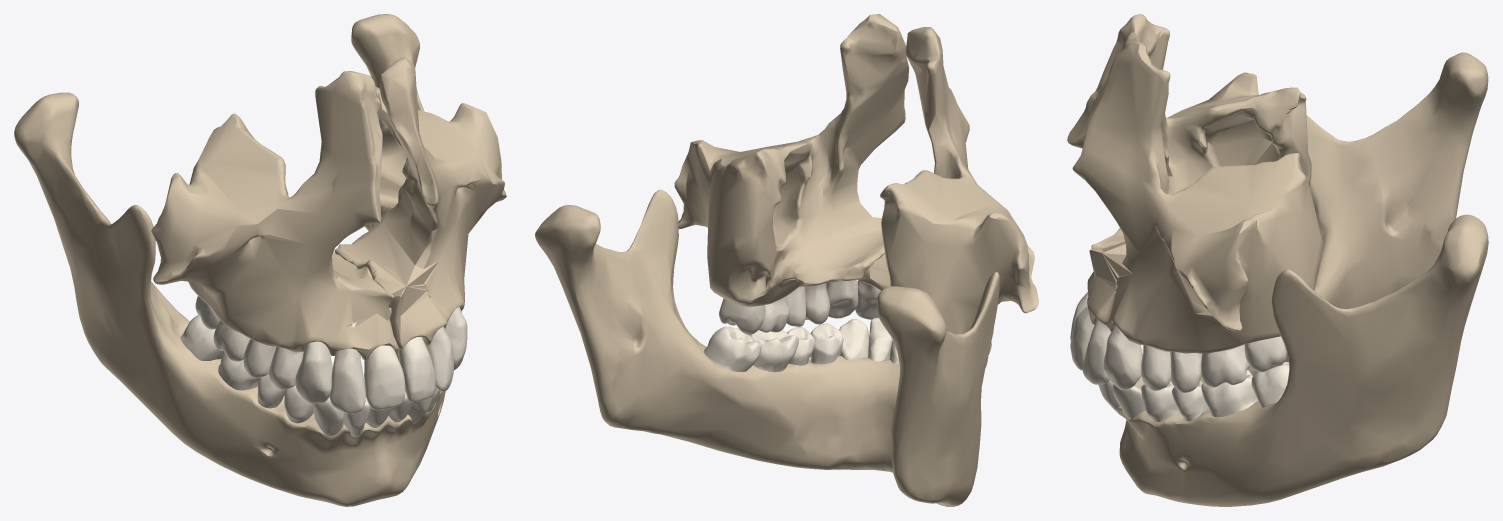
The model's file is dental.glb.
The picture shows the model from 3 angles, left to right: view 1: azimuth 30°, elevation 25°; view 2: azimuth 150°, elevation 25°; view 3: azimuth 270°, elevation 25°; orthographic projection. The views are drawn at different scales.
Visible parts, largest first — view 1: FJ3289 · bone organ, FJ3375 · bone organ, FJ3269 · bone organ, FJ1279 · tooth, FJ1280 · tooth, FJ1281 · tooth, FJ1265 · tooth, FJ1266 · tooth, FJ1270 · tooth, FJ1277 · tooth, FJ1278 · tooth, FJ1276 · tooth (+6 smaller); view 2: FJ3289 · bone organ, FJ3269 · bone organ, FJ3375 · bone organ, FJ1256 · tooth, FJ1254 · tooth, FJ1263 · tooth, FJ1255 · tooth, FJ1267 · tooth, FJ1260 · tooth, FJ1262 · tooth, FJ1259 · tooth, FJ1261 · tooth (+3 smaller); view 3: FJ3289 · bone organ, FJ3269 · bone organ, FJ3375 · bone organ, FJ1267 · tooth, FJ1261 · tooth, FJ1254 · tooth, FJ1266 · tooth, FJ1256 · tooth, FJ1262 · tooth, FJ1264 · tooth, FJ1263 · tooth, FJ1255 · tooth (+3 smaller).
Part boxes in pixels (left/top/right/bottom): FJ3289 · bone organ: left=14, top=14, right=445, bottom=506; FJ3375 · bone organ: left=151, top=71, right=398, bottom=360; FJ3269 · bone organ: left=334, top=57, right=506, bottom=349; FJ1279 · tooth: left=364, top=345, right=405, bottom=410; FJ1280 · tooth: left=329, top=322, right=365, bottom=413; FJ1281 · tooth: left=295, top=341, right=332, bottom=403; FJ1265 · tooth: left=398, top=337, right=435, bottom=401; FJ1266 · tooth: left=425, top=289, right=453, bottom=391; FJ1270 · tooth: left=180, top=315, right=222, bottom=360; FJ1277 · tooth: left=269, top=346, right=303, bottom=389; FJ1278 · tooth: left=243, top=339, right=275, bottom=378; FJ1276 · tooth: left=213, top=320, right=249, bottom=361; FJ3289 · bone organ: left=535, top=189, right=999, bottom=506; FJ3269 · bone organ: left=674, top=14, right=909, bottom=306; FJ3375 · bone organ: left=862, top=27, right=1038, bottom=334; FJ1256 · tooth: left=703, top=326, right=761, bottom=371; FJ1254 · tooth: left=749, top=330, right=798, bottom=372; FJ1263 · tooth: left=719, top=298, right=765, bottom=334; FJ1255 · tooth: left=810, top=323, right=843, bottom=363; FJ1267 · tooth: left=826, top=280, right=858, bottom=318; FJ1260 · tooth: left=839, top=319, right=869, bottom=360; FJ1262 · tooth: left=805, top=283, right=829, bottom=324; FJ1259 · tooth: left=868, top=317, right=892, bottom=361; FJ1261 · tooth: left=758, top=296, right=789, bottom=332; FJ3289 · bone organ: left=1117, top=52, right=1488, bottom=506; FJ3269 · bone organ: left=1072, top=41, right=1323, bottom=353; FJ3375 · bone organ: left=1067, top=14, right=1311, bottom=295; FJ1267 · tooth: left=1103, top=324, right=1142, bottom=389; FJ1261 · tooth: left=1201, top=344, right=1250, bottom=387; FJ1254 · tooth: left=1201, top=369, right=1257, bottom=417; FJ1266 · tooth: left=1082, top=281, right=1117, bottom=384; FJ1256 · tooth: left=1251, top=362, right=1289, bottom=407; FJ1262 · tooth: left=1141, top=345, right=1170, bottom=390; FJ1264 · tooth: left=1170, top=351, right=1201, bottom=392; FJ1263 · tooth: left=1244, top=336, right=1286, bottom=372; FJ1255 · tooth: left=1141, top=381, right=1178, bottom=422.
Bounding box in the file's own units: 3.19 × 3.35 × 2.82.
